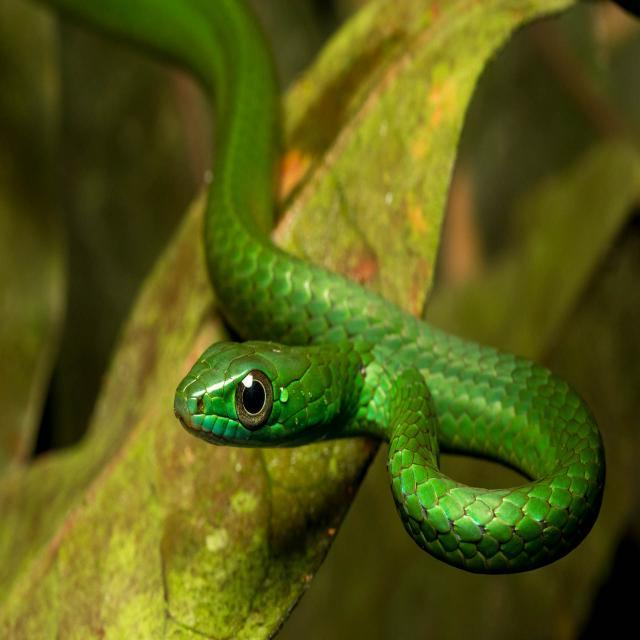Snake: (39, 0, 614, 559)
